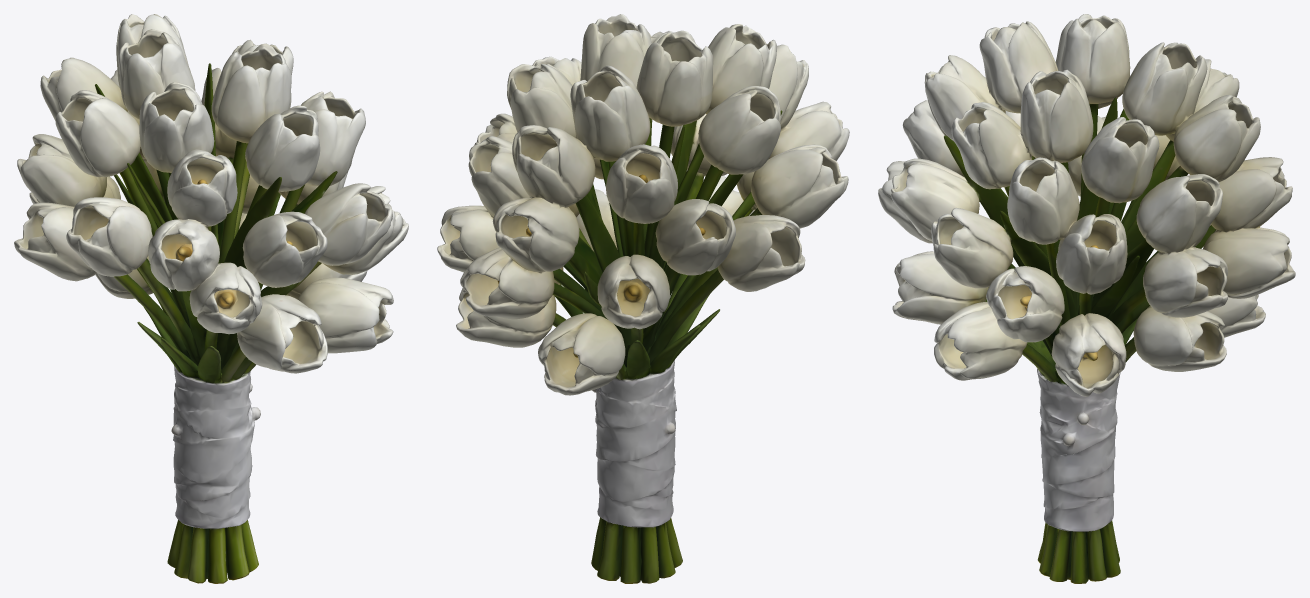
The model's file is round.glb.
3 renders of one model, left to right at view 1: azimuth 30°, elevation 25°; view 2: azimuth 150°, elevation 25°; view 3: azimuth 270°, elevation 25°, orthographic. The views are drawn at different scales.
Visible parts, largest first — view 1: tripo_node_73167dbf-8f62-4b7d-8b13-002cf895f1fc; view 2: tripo_node_73167dbf-8f62-4b7d-8b13-002cf895f1fc; view 3: tripo_node_73167dbf-8f62-4b7d-8b13-002cf895f1fc.
Boxes of the visible parts, x1,y1,x2,y2 form: tripo_node_73167dbf-8f62-4b7d-8b13-002cf895f1fc: (14,14,408,583); tripo_node_73167dbf-8f62-4b7d-8b13-002cf895f1fc: (437,14,849,583); tripo_node_73167dbf-8f62-4b7d-8b13-002cf895f1fc: (878,14,1295,583).
Size of the model in its own units: 0.6577 by 1 by 0.7118.
1 material, 1 textured.
